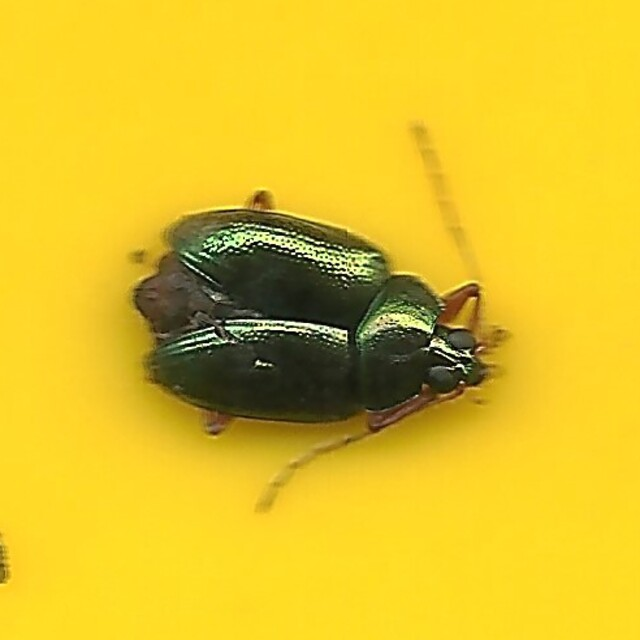Coleoptera: (130, 120, 510, 520)
